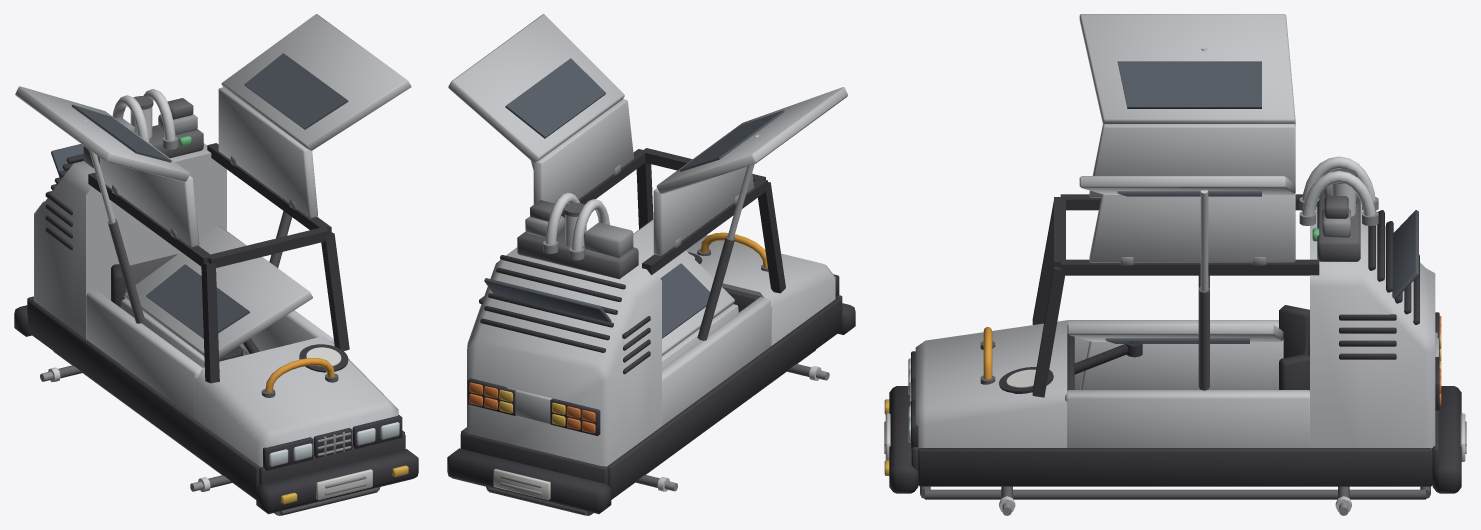
The model's file is gullwing.glb.
The picture shows the model from 3 angles, left to right: view 1: azimuth 30°, elevation 25°; view 2: azimuth 150°, elevation 25°; view 3: azimuth 270°, elevation 25°; orthographic projection. The views are drawn at different scales.
Parts seen in each view (by area): view 1: gullwing, gullwing_wreck, gullwing_sig; view 2: gullwing, gullwing_wreck, gullwing_sig; view 3: gullwing, gullwing_wreck, gullwing_sig.
Boxes of the visible parts, x1=… form: gullwing: x1=14, y1=14, x2=417, y2=515; gullwing_wreck: x1=15, y1=219, x2=418, y2=514; gullwing_sig: x1=121, y1=225, x2=312, y2=367; gullwing: x1=447, y1=14, x2=855, y2=515; gullwing_wreck: x1=447, y1=232, x2=855, y2=515; gullwing_sig: x1=633, y1=219, x2=738, y2=368; gullwing: x1=884, y1=14, x2=1466, y2=507; gullwing_wreck: x1=884, y1=275, x2=1466, y2=515; gullwing_sig: x1=1067, y1=323, x2=1283, y2=389.
Size of the model in its own units: 1.64 by 1.73 by 2.42.
